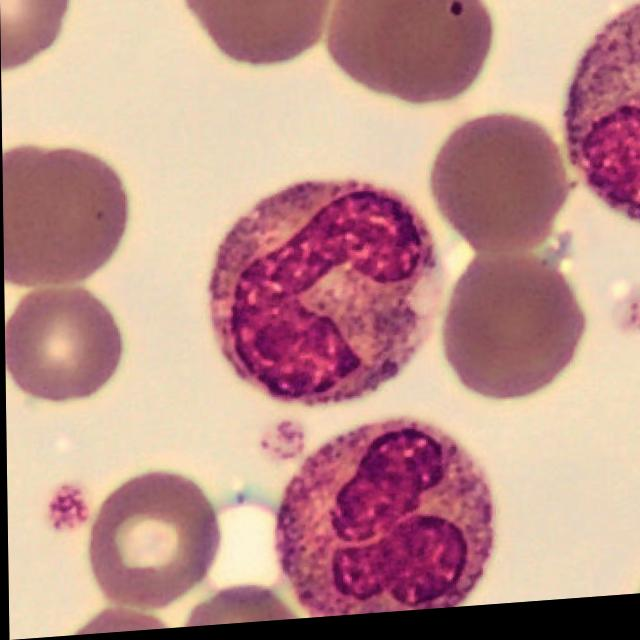Neutrofilo segmentado: (207, 184, 444, 410), (273, 426, 492, 622)
